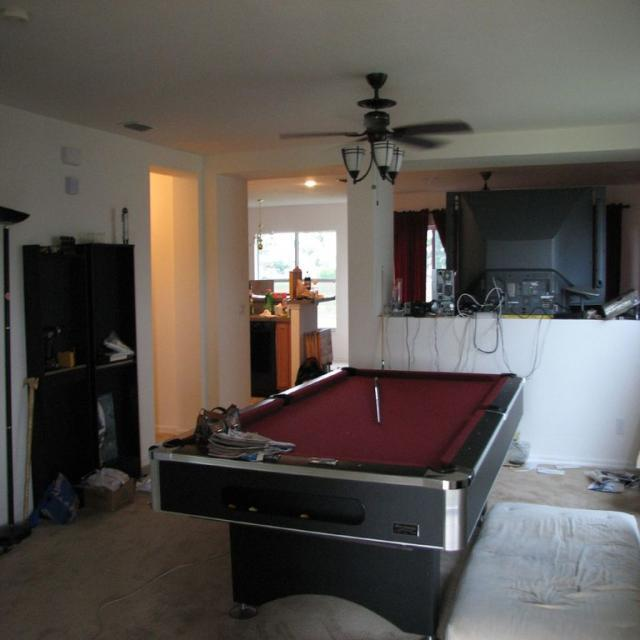Billiard table: (148, 364, 527, 552)
